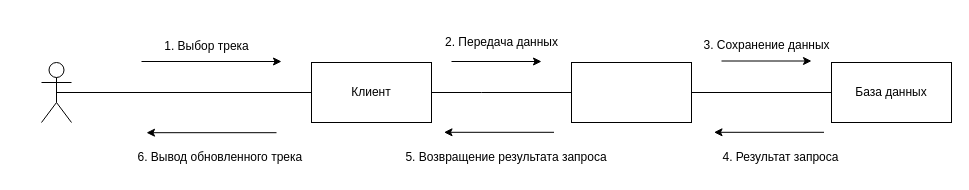
Image size: 969x190. Some labels were removed from this diagram. Each missing label, with the centre of its shape:
Пользователь: (56,92)
Сервер: (631,92)
